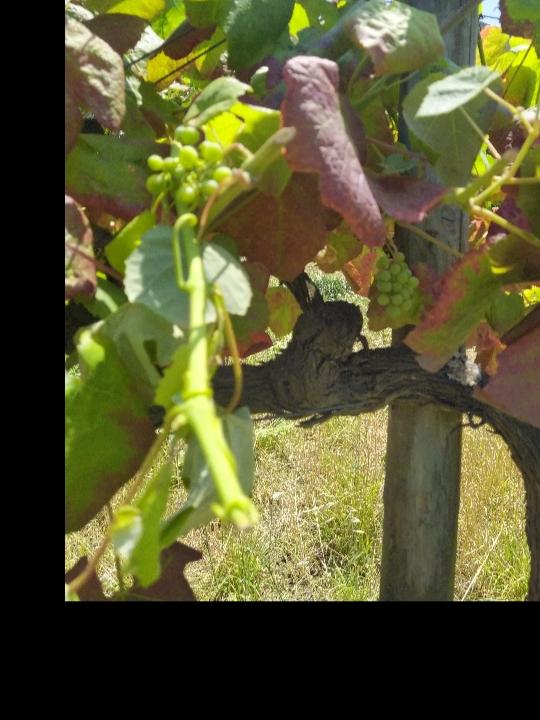grape: (145, 124, 232, 216), (368, 249, 420, 323)
